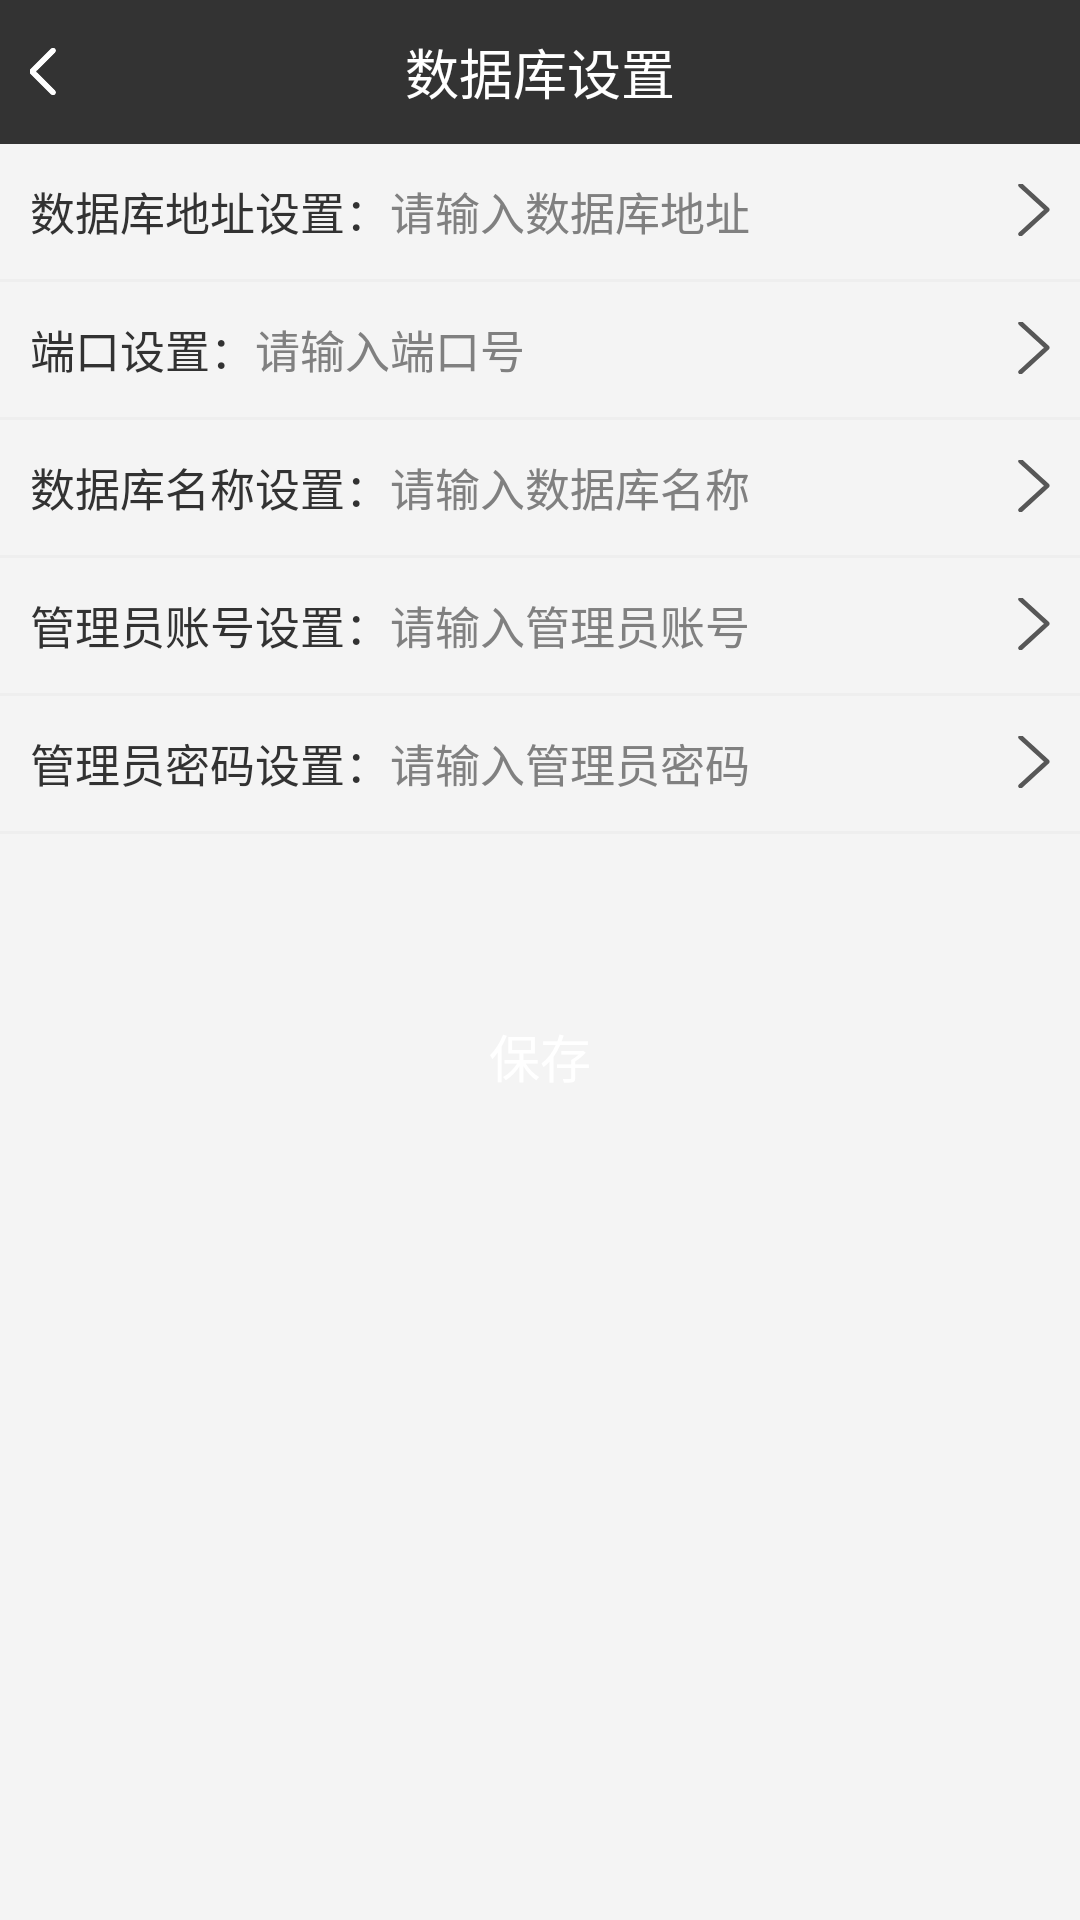

Icon click points for this 1080*1920 phone screenshot, format (x,y):
back: (43,71)
